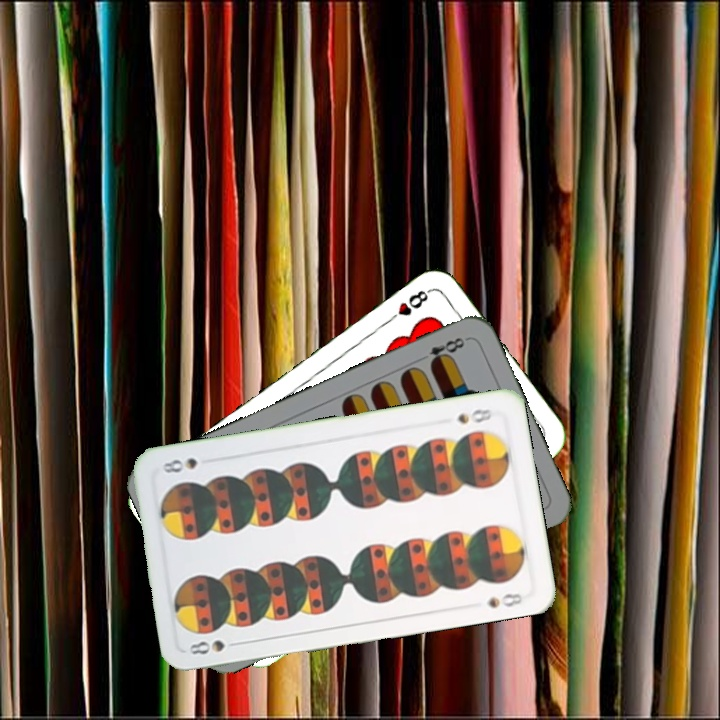E8: (414, 333, 470, 369)
H8: (383, 285, 434, 326)
S8: (453, 405, 495, 427), (185, 636, 227, 657)
